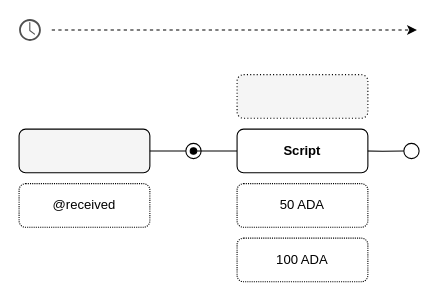
Image size: 448x301. Some labels were removed from this diagram. The shapes that lost their labels are listed below. From the top down, each one's box as (x1, y1, x2, y2) in pixels, then its label:
(236, 74, 368, 118): Revision
(18, 128, 150, 173): Buyer
